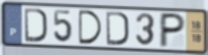3: (134, 12, 156, 47)
5: (52, 9, 74, 44)
D: (77, 8, 104, 45), (105, 10, 131, 47), (23, 6, 49, 43)
P: (158, 12, 187, 49)
